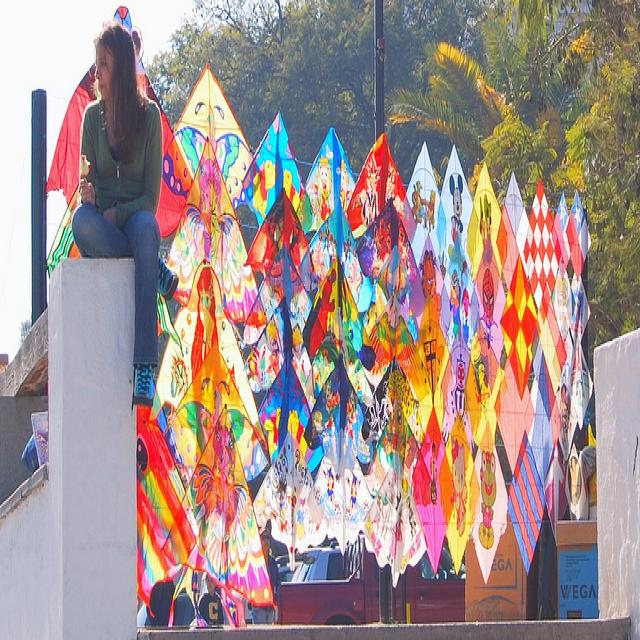Vehicle: (275, 532, 465, 626), (292, 544, 342, 584)
